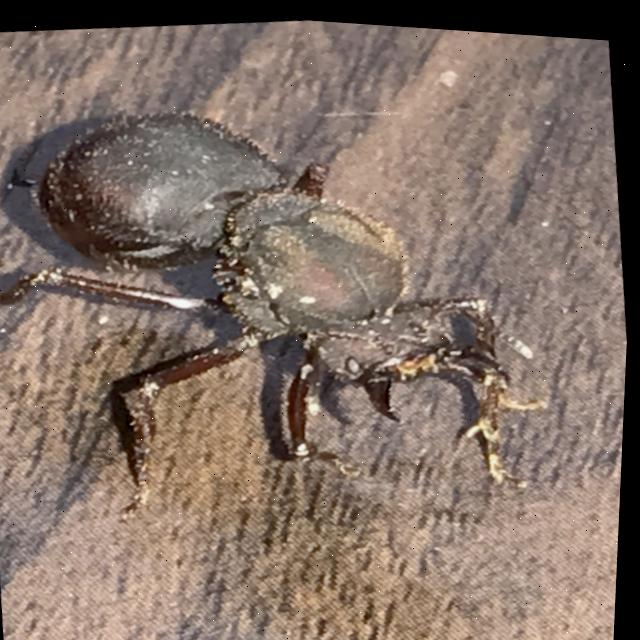Alive-Female-Dealate: (0, 61, 573, 553)
